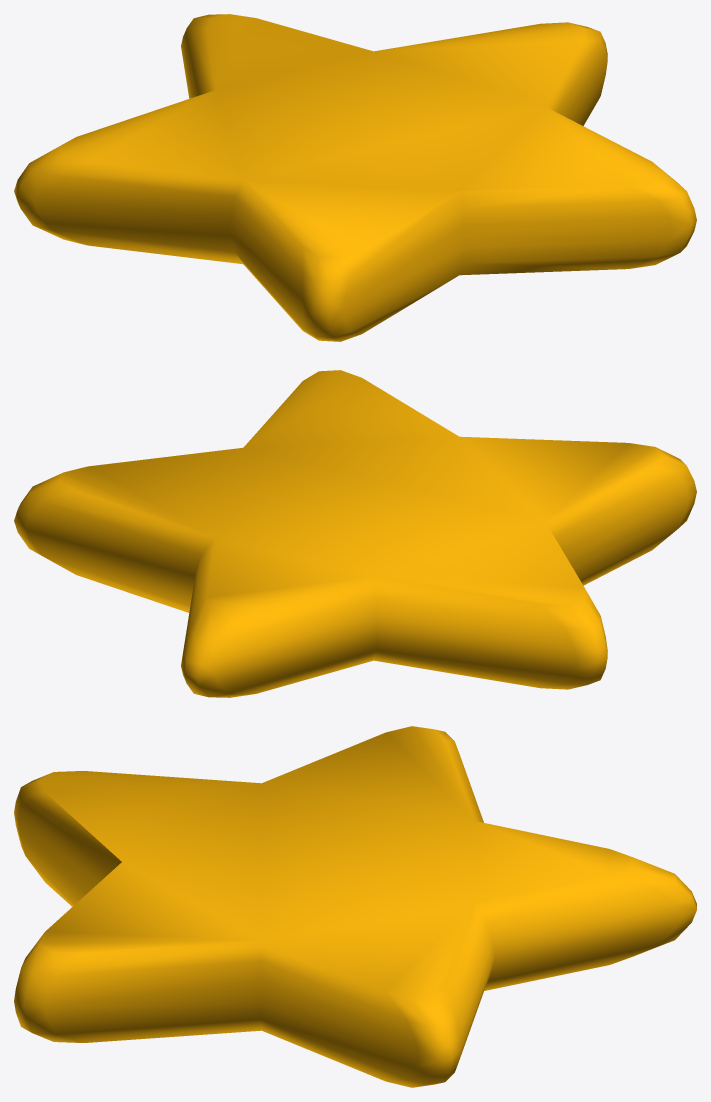
Rendered from Star.fbx.
3 renders of one model, top to bottom at view 1: azimuth 30°, elevation 25°; view 2: azimuth 150°, elevation 25°; view 3: azimuth 270°, elevation 25°, orthographic. The views are drawn at different scales.
Visible parts, largest first — view 1: star; view 2: star; view 3: star.
Boxes of the visible parts, box(x1,y1,x2,y2) form: star: box(14, 14, 696, 341); star: box(14, 370, 696, 697); star: box(14, 726, 696, 1087).
Bounding box in the file's own units: 2.36 × 0.3207 × 2.21.
